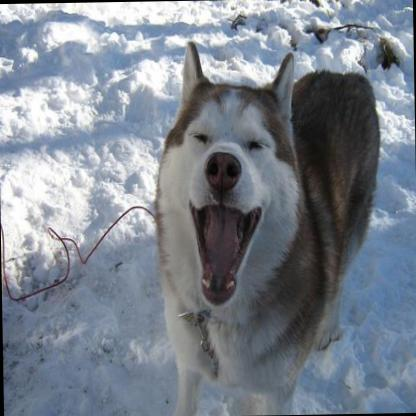Siberian_husky: (148, 35, 384, 414)
